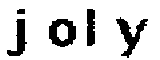j: (2, 4, 33, 58)
l: (82, 5, 106, 52)
o: (46, 18, 79, 51)
y: (112, 15, 150, 60)
